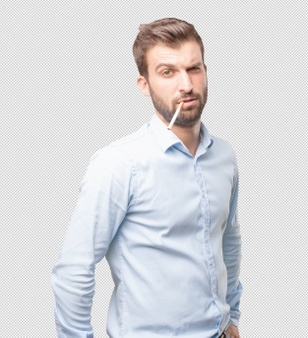sigaretta: (162, 97, 187, 131)
